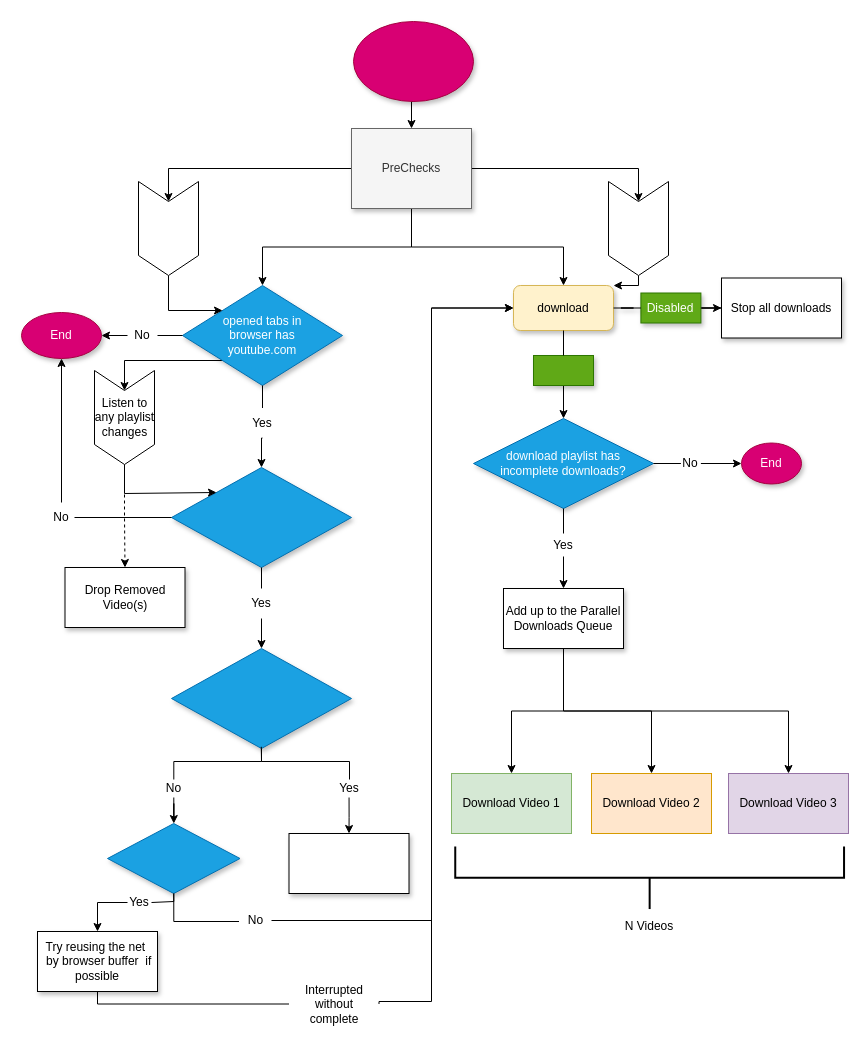
Some shapes in this 866 by 1044 pixel diagram are drawn without their labels. Each missing label, with the centre of its shape:
Enabled: pixel 564 371
Is it downloaded: pixel 262 700
Listen to any option changes: pixel 638 228
Listen to any tab changes: pixel 168 228
opened youtube video(s) is under download playlist: pixel 262 518
Play the video using the cache: pixel 349 864
Playing on same quality as download: pixel 174 859
Start: pixel 414 62
